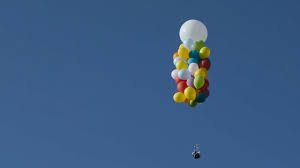Balloon: (179, 19, 208, 41), (173, 91, 186, 104), (185, 87, 196, 101), (177, 68, 189, 80), (188, 62, 199, 73), (199, 47, 211, 57), (194, 76, 204, 88), (184, 39, 194, 50), (196, 92, 205, 102), (175, 60, 186, 68), (195, 40, 204, 49)
